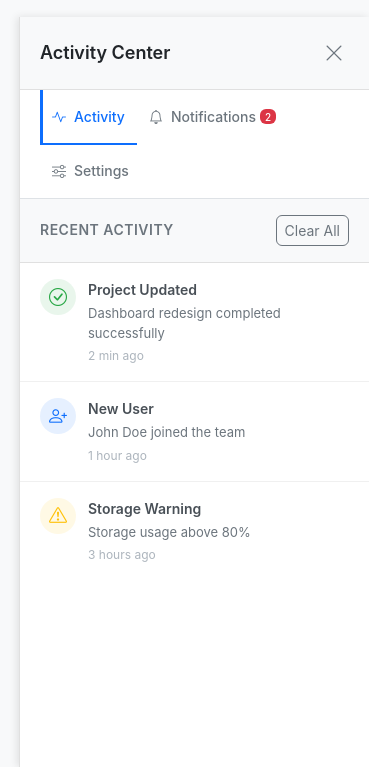
Test: RightPanel › switches to notifications tab when clicked
Click the button "Notifications 2" at (213, 118), box [137,90,288,145]
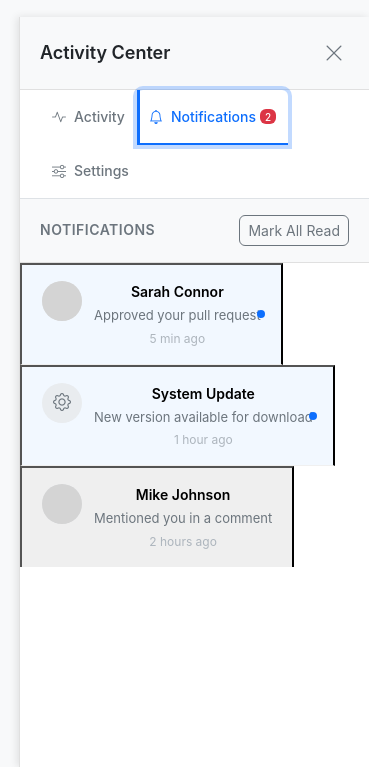
Expected: the button "Mark All Read" is shown, [240,215,349,246]
Expected: the text "Sarah Connor" is shown, [131,283,224,300]
Expected: the text "System Update" is shown, [152,384,255,402]
